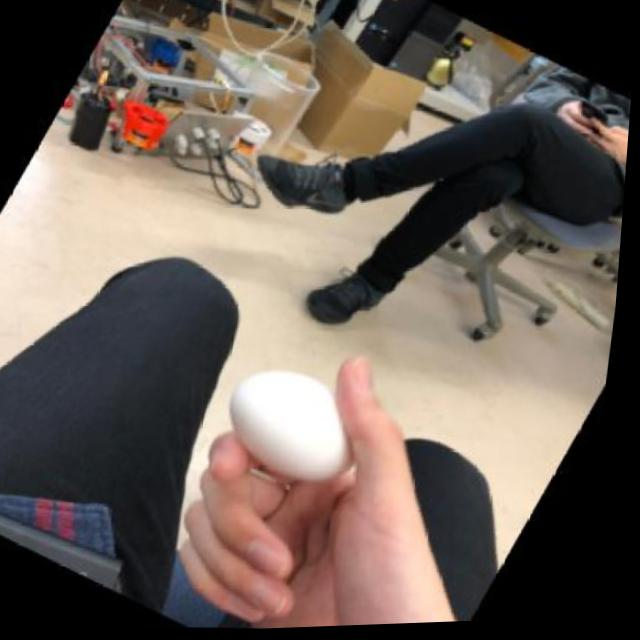egg: (226, 368, 372, 493)
